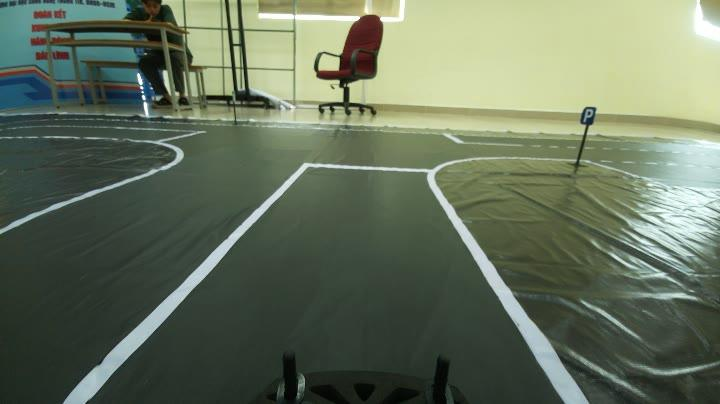parking: (576, 102, 601, 128)
